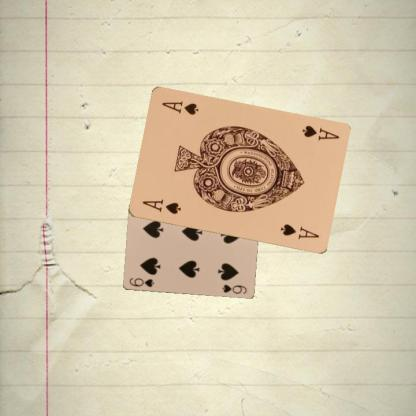6s: (126, 276, 155, 288)
As: (139, 197, 182, 216), (299, 123, 340, 142)
